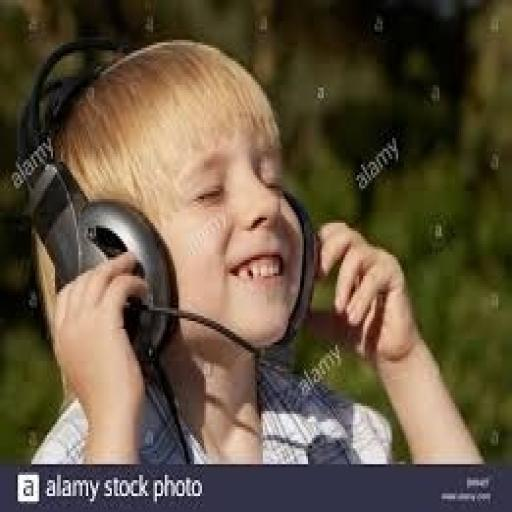listening_to_music: (24, 34, 486, 467)
